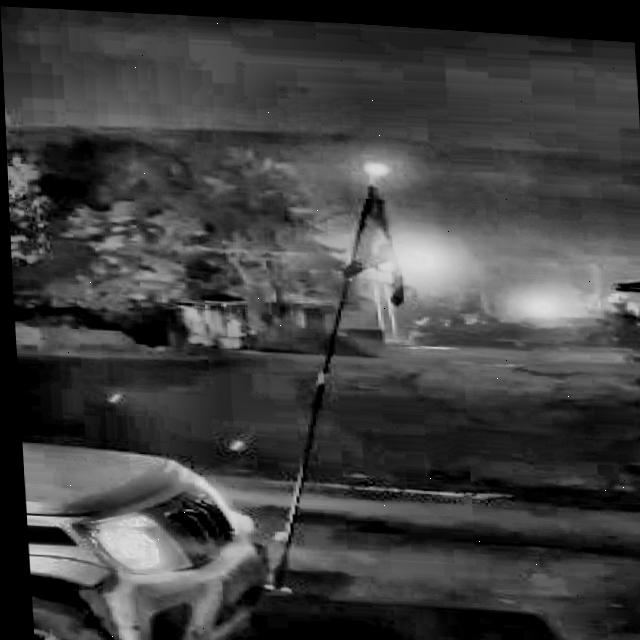light_vehicle: (11, 318, 265, 640)
